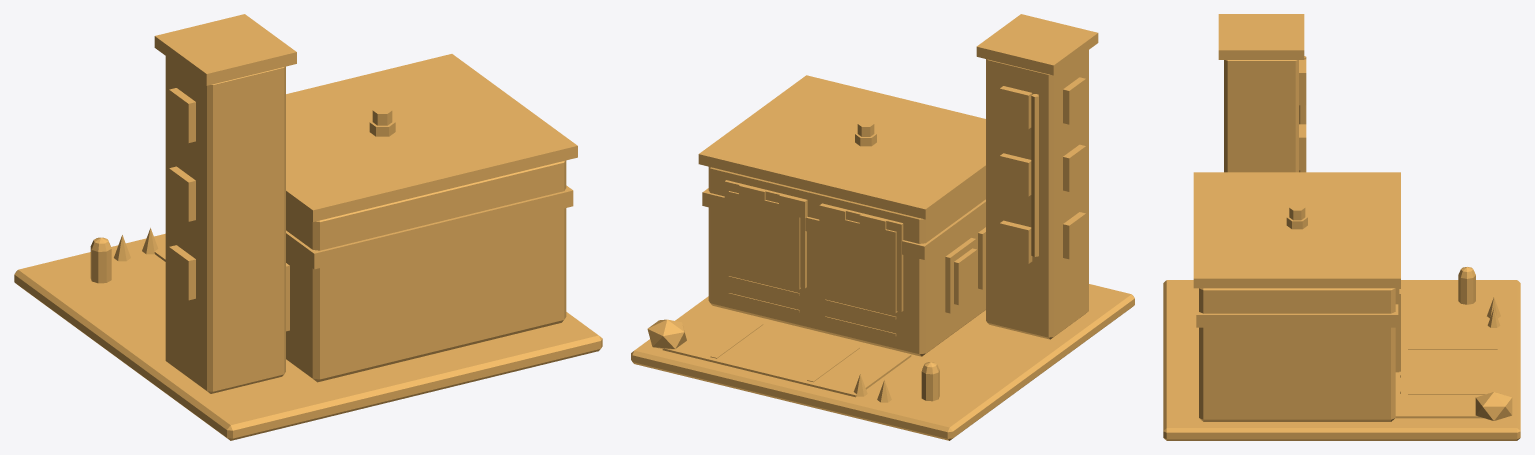
3 views of the same model, side by side, from view 1: azimuth 30°, elevation 25°; view 2: azimuth 150°, elevation 25°; view 3: azimuth 270°, elevation 25° (orthographic). The views are drawn at different scales.
Visible parts, largest first — view 1: corpo; view 2: corpo; view 3: corpo.
Part boxes in pixels (bbox=[...]): corpo: bbox=[14, 14, 602, 440]; corpo: bbox=[631, 14, 1134, 440]; corpo: bbox=[1163, 14, 1520, 440].
Bounding box in the file's own units: 2 × 1.74 × 2.
